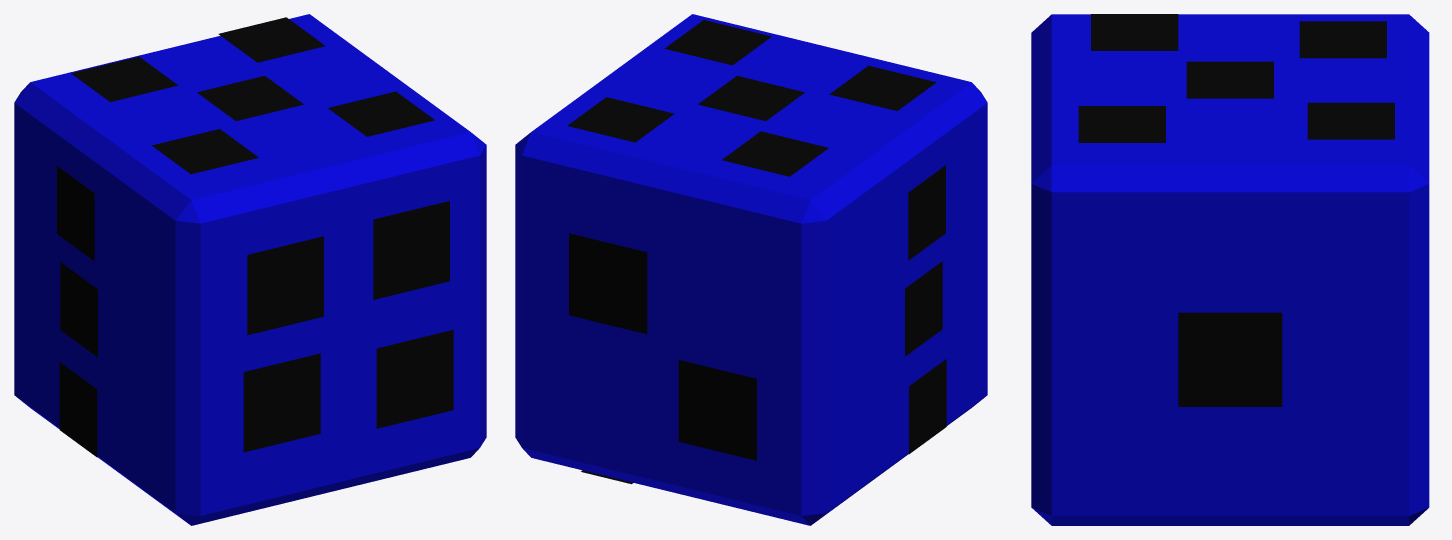
File: die6.gltf
3 renders of one model, left to right at view 1: azimuth 30°, elevation 25°; view 2: azimuth 150°, elevation 25°; view 3: azimuth 270°, elevation 25°, orthographic. The views are drawn at different scales.
Visible parts, largest first — view 1: Die6; view 2: Die6; view 3: Die6.
Boxes of the visible parts, <box> form: Die6: <box>14,14,486,525</box>; Die6: <box>515,14,987,525</box>; Die6: <box>1031,14,1429,525</box>.
Size of the model in its own units: 1.04 by 0.9969 by 1.01.
